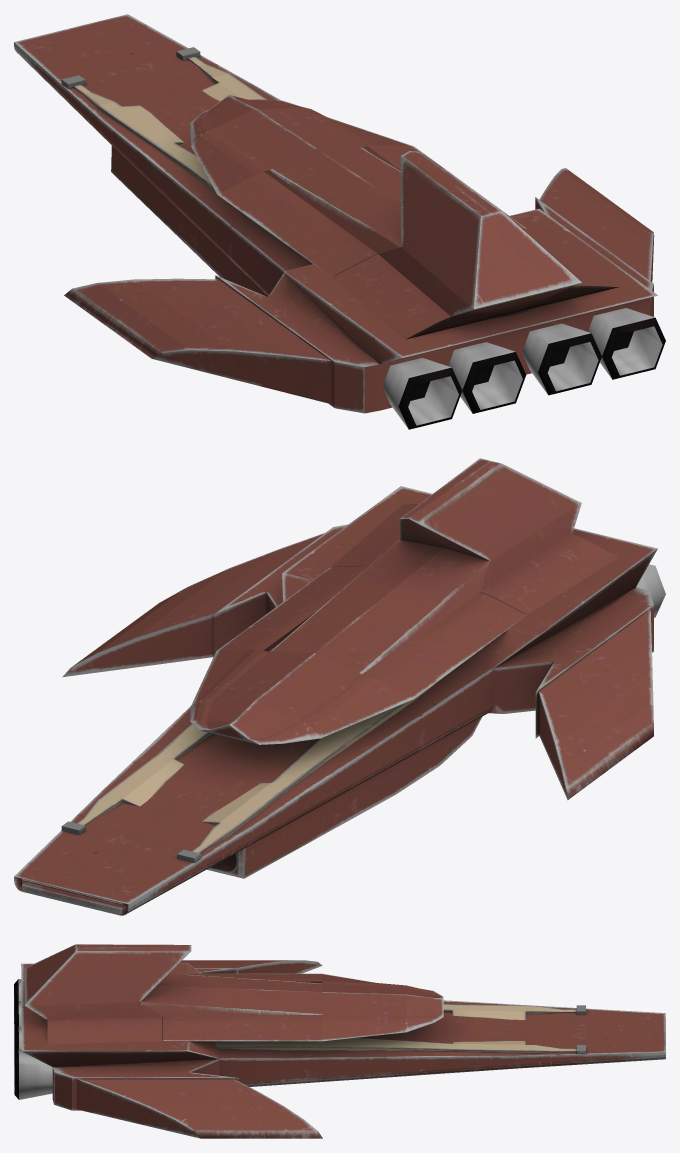
File: spaceship5.fbx
3 views of the same model, one above another, from view 1: azimuth 30°, elevation 25°; view 2: azimuth 150°, elevation 25°; view 3: azimuth 270°, elevation 25° (orthographic). The views are drawn at different scales.
Visible parts, largest first — view 1: nave_mae_Cubo.002; view 2: nave_mae_Cubo.002; view 3: nave_mae_Cubo.002.
Boxes of the visible parts, x1=… form: nave_mae_Cubo.002: x1=14, y1=14, x2=665, y2=429; nave_mae_Cubo.002: x1=14, y1=458, x2=665, y2=915; nave_mae_Cubo.002: x1=14, y1=944, x2=665, y2=1138.
Bounding box in the file's own units: 2101 × 729 × 3348.
1 material, 1 textured.
